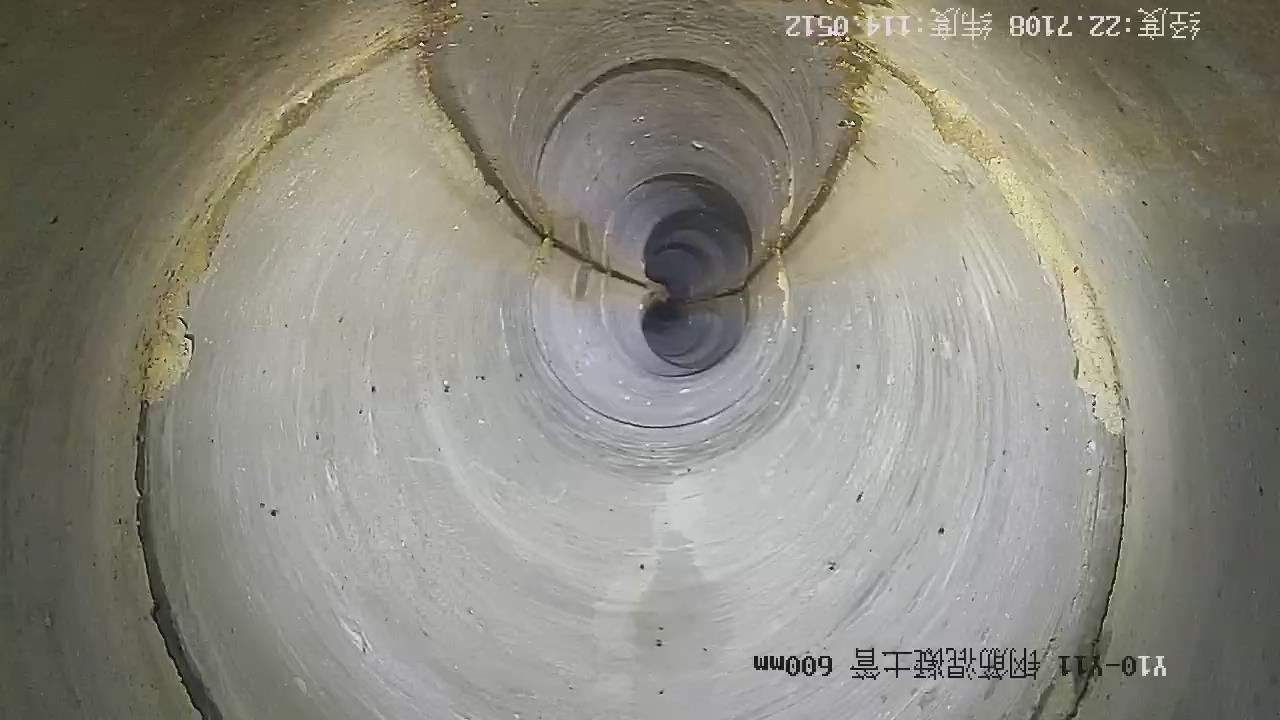CKTJ: (127, 12, 461, 720), (805, 21, 1138, 720)
